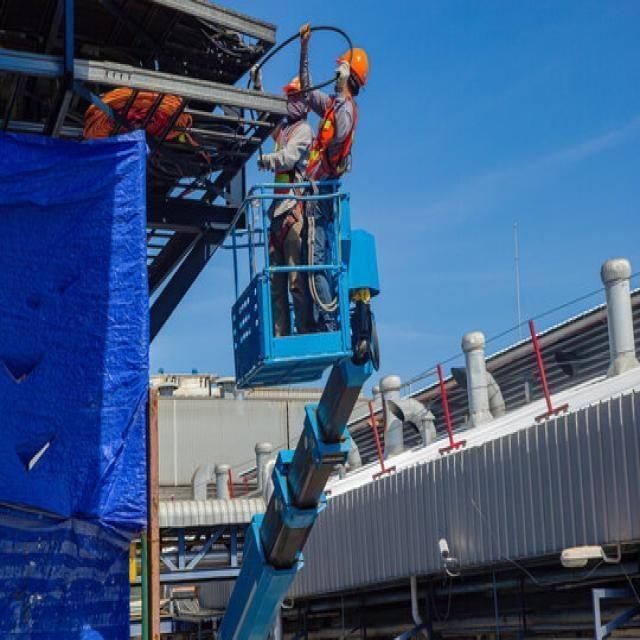Arnes_seguridad: (269, 121, 308, 250), (309, 91, 356, 177)
